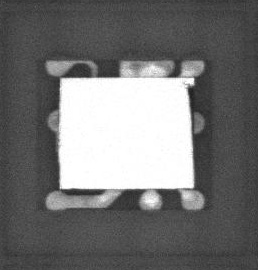DIE_BROKEN: (184, 82, 194, 123)
